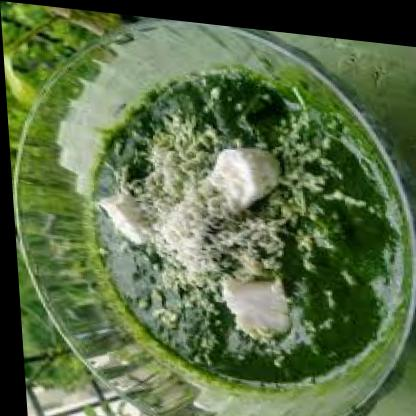palak_paneer: (80, 55, 408, 390)
